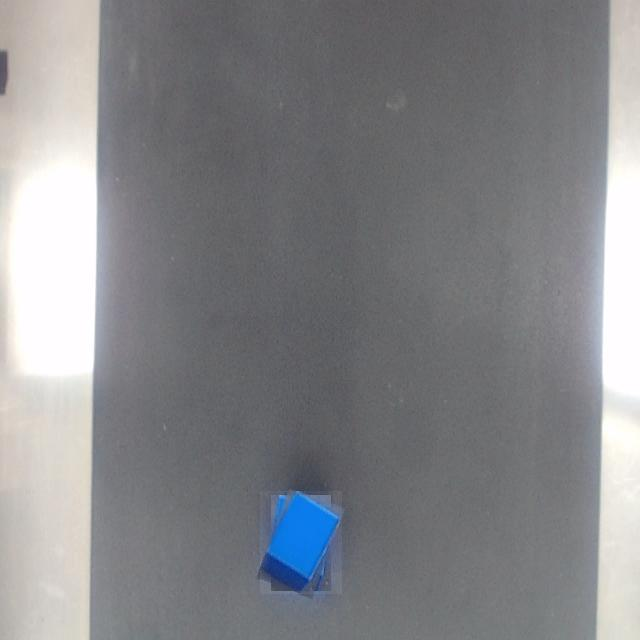Azul: (261, 492, 342, 594)
